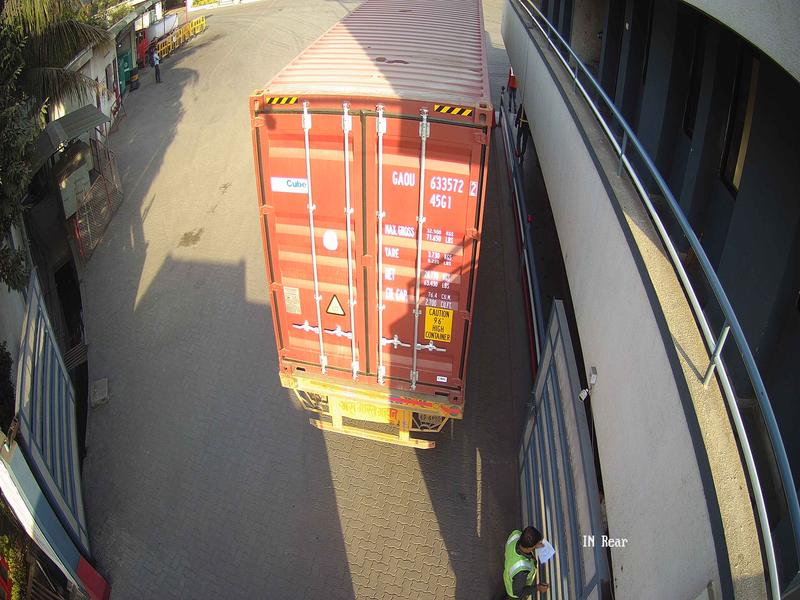container: (234, 77, 504, 414)
